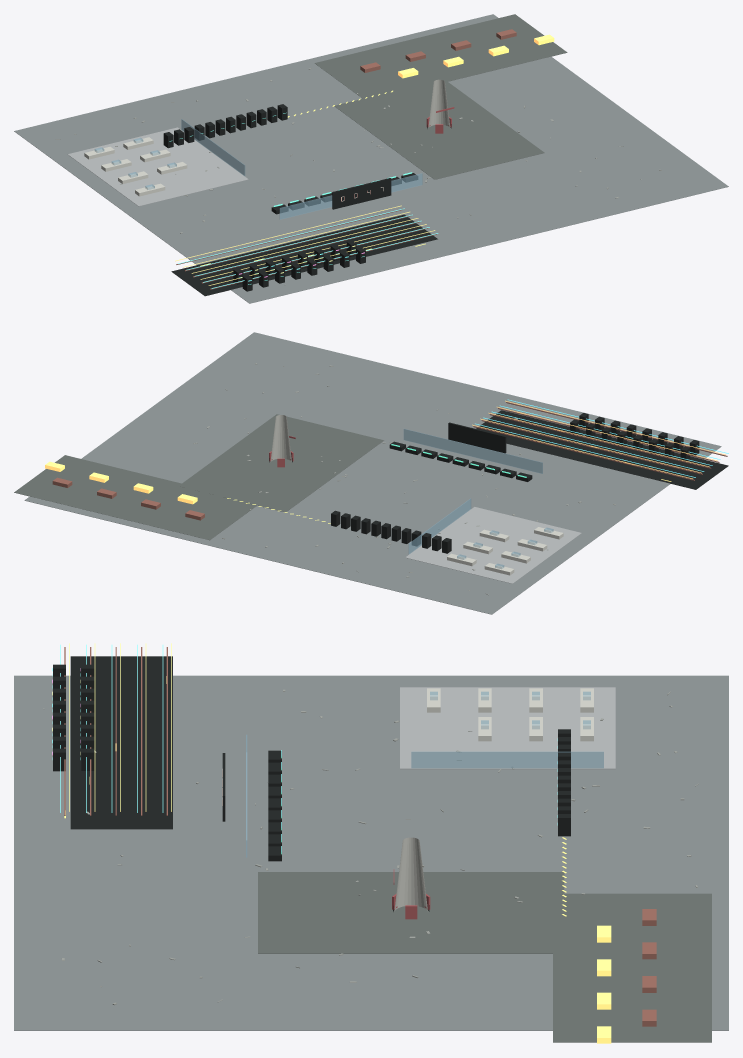
Rendered from level_07_contagem_regressiva_nasa.glb.
3 views of the same model, one above another, from view 1: azimuth 30°, elevation 25°; view 2: azimuth 150°, elevation 25°; view 3: azimuth 270°, elevation 25° (orthographic). The views are drawn at different scales.
Visible parts, largest first — view 1: large_facility_floor, rocket_bay_floor, outer_launch_apron, clean_room_floor, underground_service_tunnel_floor, countdown_screen_panel, control_room_glass_wall, rocket_body_white, clean_room_glass_entry; view 2: large_facility_floor, rocket_bay_floor, outer_launch_apron, underground_service_tunnel_floor, clean_room_floor, control_room_glass_wall, countdown_screen_panel, rocket_body_white, clean_room_glass_entry; view 3: large_facility_floor, rocket_bay_floor, outer_launch_apron, underground_service_tunnel_floor, clean_room_floor, clean_room_glass_entry, rocket_body_white.
Part boxes in pixels (left/top/right/bottom): large_facility_floor: left=14, top=14, right=728, bottom=303; rocket_bay_floor: left=334, top=79, right=544, bottom=179; outer_launch_apron: left=314, top=14, right=567, bottom=98; clean_room_floor: left=68, top=127, right=248, bottom=206; underground_service_tunnel_floor: left=171, top=214, right=437, bottom=296; countdown_screen_panel: left=332, top=178, right=391, bottom=209; control_room_glass_wall: left=279, top=173, right=422, bottom=219; rocket_body_white: left=428, top=79, right=450, bottom=127; clean_room_glass_entry: left=181, top=119, right=245, bottom=175; large_facility_floor: left=24, top=332, right=721, bottom=614; rocket_bay_floor: left=178, top=414, right=383, bottom=512; outer_launch_apron: left=14, top=455, right=256, bottom=540; underground_service_tunnel_floor: left=476, top=410, right=728, bottom=489; clean_room_floor: left=405, top=507, right=581, bottom=583; control_room_glass_wall: left=403, top=429, right=542, bottom=473; countdown_screen_panel: left=448, top=422, right=506, bottom=453; rocket_body_white: left=270, top=415, right=291, bottom=461; clean_room_glass_entry: left=408, top=498, right=471, bottom=554; large_facility_floor: left=14, top=675, right=728, bottom=1030; rocket_bay_floor: left=258, top=872, right=564, bottom=953; outer_launch_apron: left=553, top=893, right=711, bottom=1042; underground_service_tunnel_floor: left=70, top=656, right=172, bottom=829; clean_room_floor: left=400, top=687, right=615, bottom=769; clean_room_glass_entry: left=411, top=751, right=603, bottom=768; rocket_body_white: left=394, top=837, right=427, bottom=911.
Bounding box in the file's own units: 161 × 14.08 × 126.
